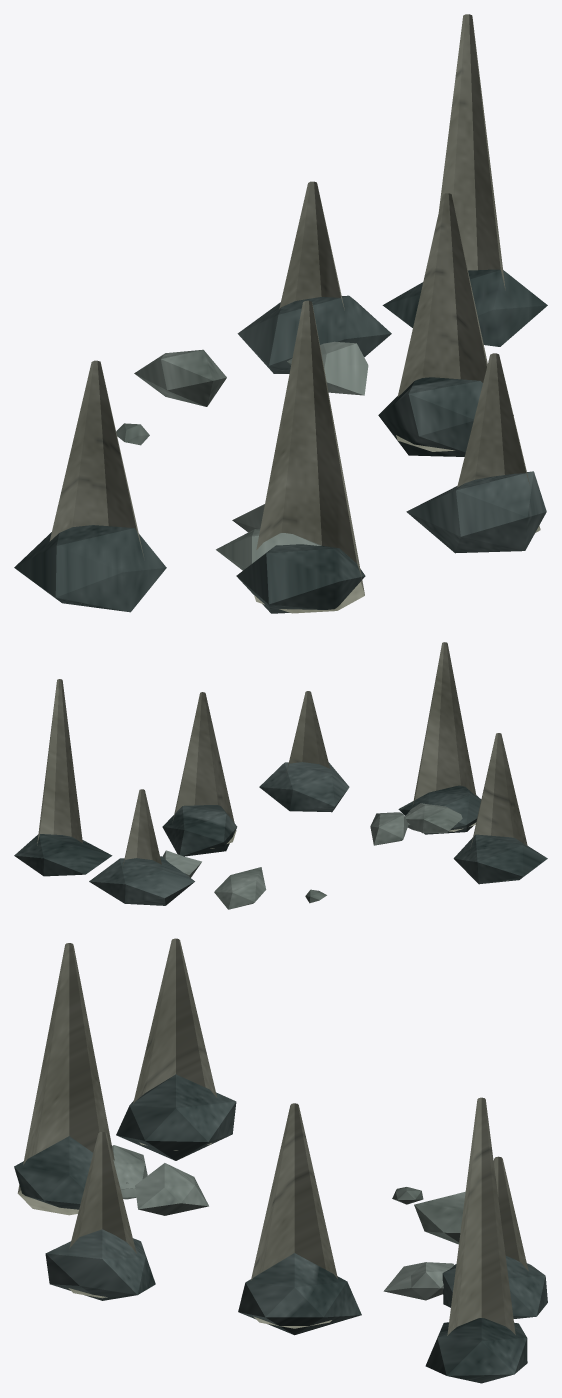
The model's file is 0091_stalagmites_16.glb.
The picture shows the model from 3 angles, top to bottom: view 1: azimuth 30°, elevation 25°; view 2: azimuth 150°, elevation 25°; view 3: azimuth 270°, elevation 25°; orthographic projection. The views are drawn at different scales.
Parts seen in each view (by area): view 1: stone_light, stone_dark, stone; view 2: stone_light, stone_dark, stone; view 3: stone_light, stone_dark, stone.
Boxes of the visible parts, x1=… form: stone_light: x1=47, y1=14, x2=540, y2=613; stone_dark: x1=14, y1=269, x2=547, y2=613; stone: x1=116, y1=341, x2=368, y2=570; stone_light: x1=37, y1=642, x2=527, y2=880; stone_dark: x1=14, y1=762, x2=547, y2=905; stone: x1=162, y1=803, x2=462, y2=909; stone_light: x1=17, y1=938, x2=528, y2=1335; stone_dark: x1=14, y1=1074, x2=547, y2=1383; stone: x1=112, y1=1145, x2=465, y2=1300.
Bounding box in the file's own units: 3.19 × 1.46 × 2.54.
3 materials, 3 textured.
